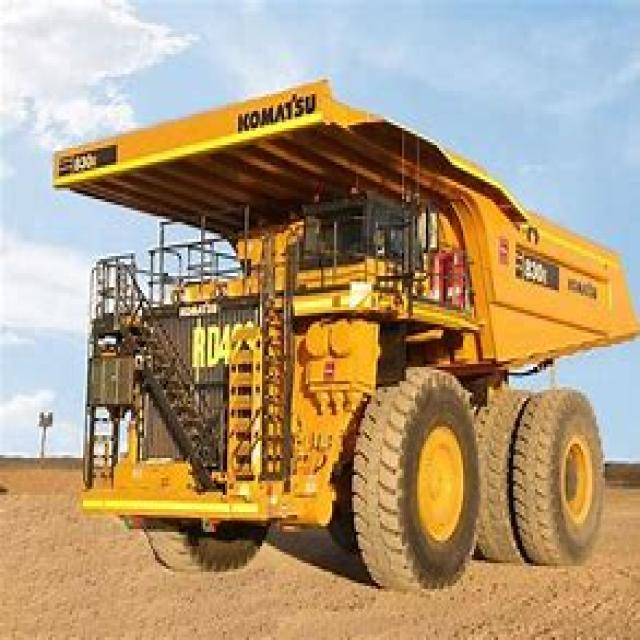dump_truck: (48, 66, 636, 592)
